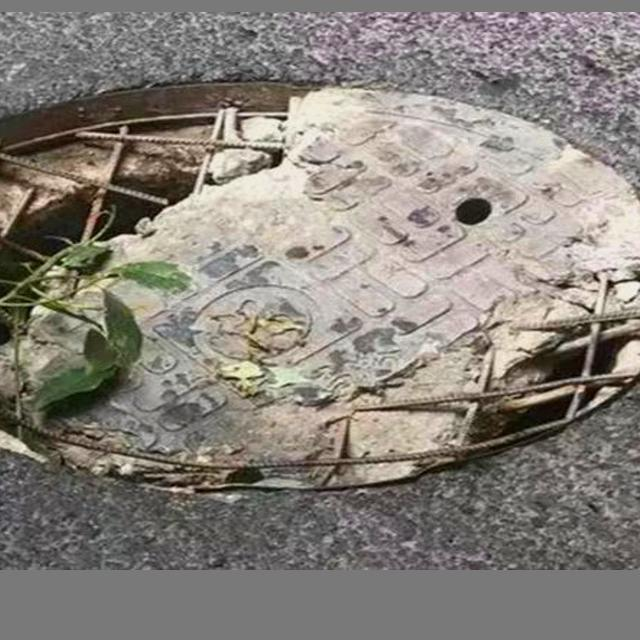broke: (0, 70, 640, 499)
